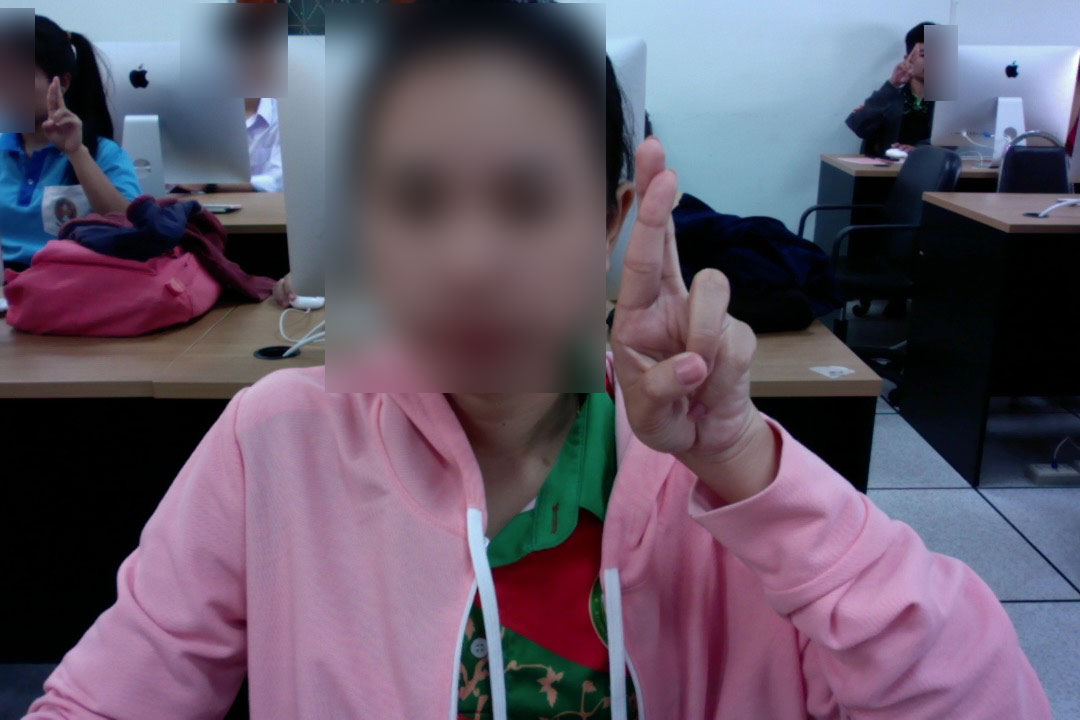rao: (601, 136, 763, 469)
